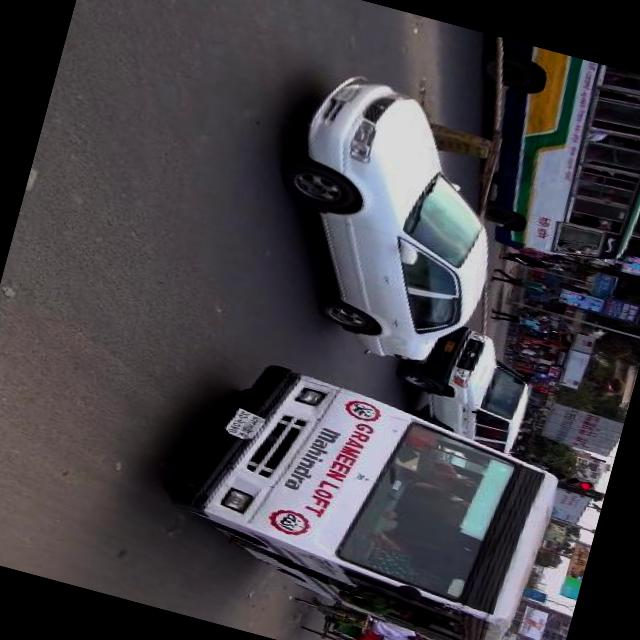bus: (142, 341, 576, 640), (430, 32, 640, 286)
car: (232, 58, 542, 384), (379, 310, 546, 464)
motorcycle: (279, 590, 437, 640)
